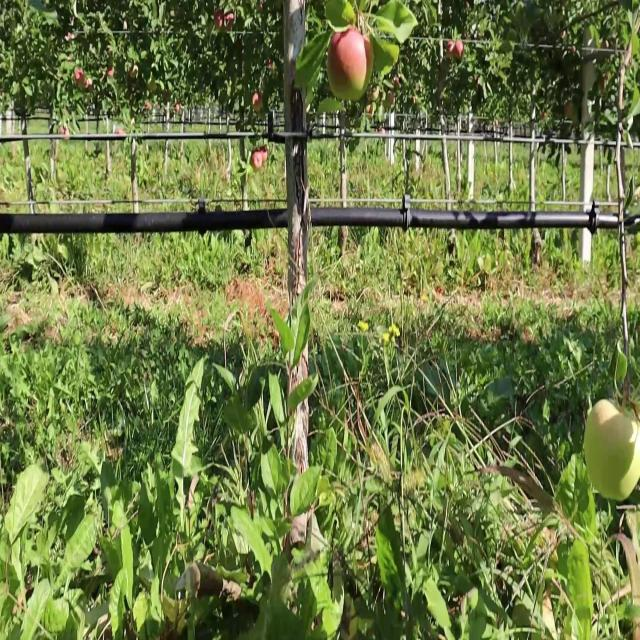apple: (588, 398, 640, 505), (340, 28, 373, 91), (328, 35, 347, 98), (252, 92, 263, 114), (252, 149, 263, 171), (224, 14, 236, 30), (456, 42, 464, 62), (448, 42, 456, 59), (76, 71, 84, 85), (216, 14, 224, 28), (568, 106, 574, 121), (604, 79, 608, 87), (108, 71, 112, 78)
